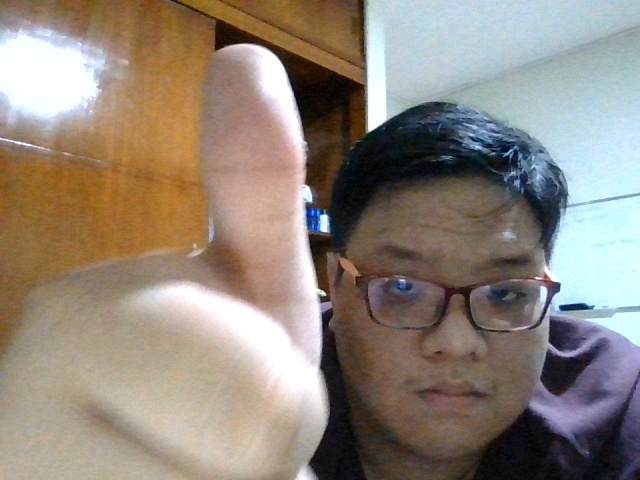si: (5, 52, 329, 477)
